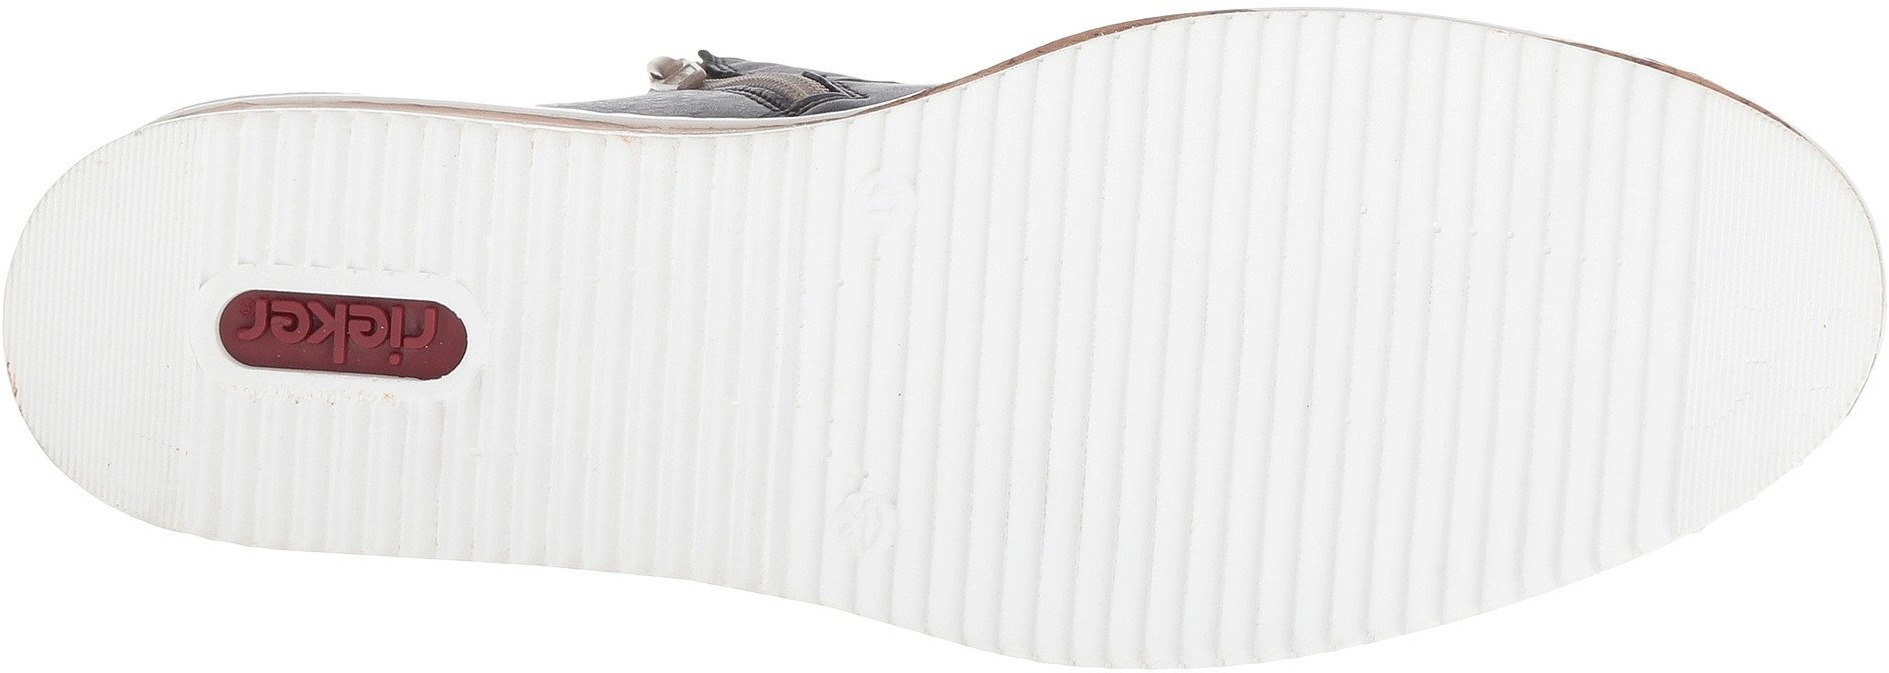circle: (365, 287, 479, 389)
line: (501, 163, 873, 504), (1214, 75, 1541, 436), (918, 110, 1210, 412), (958, 417, 1204, 637), (277, 110, 437, 277), (293, 409, 429, 542)
other: (8, 256, 186, 429), (1691, 197, 1856, 368)
quad: (1219, 444, 1428, 632)
text: (239, 277, 358, 395), (365, 287, 479, 389)
